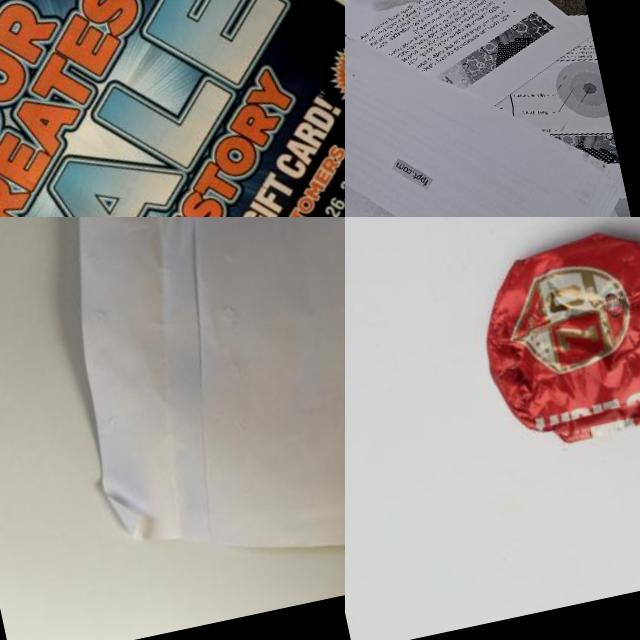lata: (467, 217, 640, 458)
papel: (31, 217, 345, 598), (0, 0, 345, 217), (345, 0, 640, 217)
